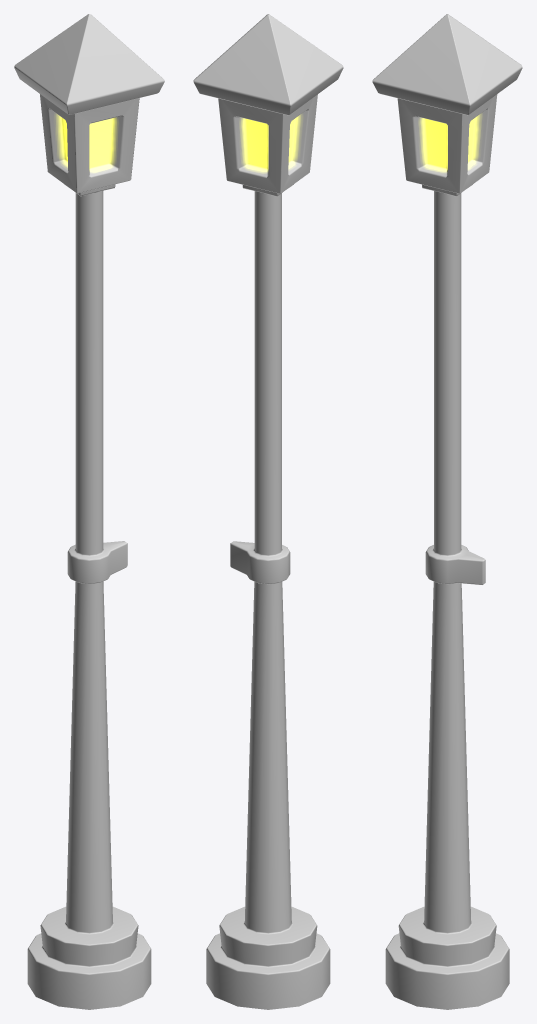
File: Street_lamp.fbx
3 renders of one model, left to right at view 1: azimuth 30°, elevation 25°; view 2: azimuth 150°, elevation 25°; view 3: azimuth 330°, elevation 25°, orthographic.
Visible parts, largest first — view 1: Street_lamp; view 2: Street_lamp; view 3: Street_lamp.
Part boxes in pixels (<box>): Street_lamp: <box>14,14,164,1009</box>; Street_lamp: <box>193,14,343,1009</box>; Street_lamp: <box>372,14,522,1009</box>.
Size of the model in its own units: 0.7092 by 6.13 by 0.7092.
